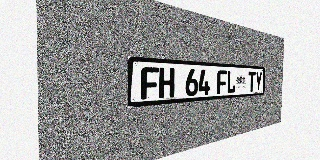4: (198, 69, 210, 95)
6: (185, 69, 198, 96)
F: (141, 67, 159, 100), (217, 70, 227, 94)
H: (159, 67, 175, 98)
L: (227, 70, 236, 93)
T: (248, 71, 255, 92)
Y: (255, 72, 262, 91)
